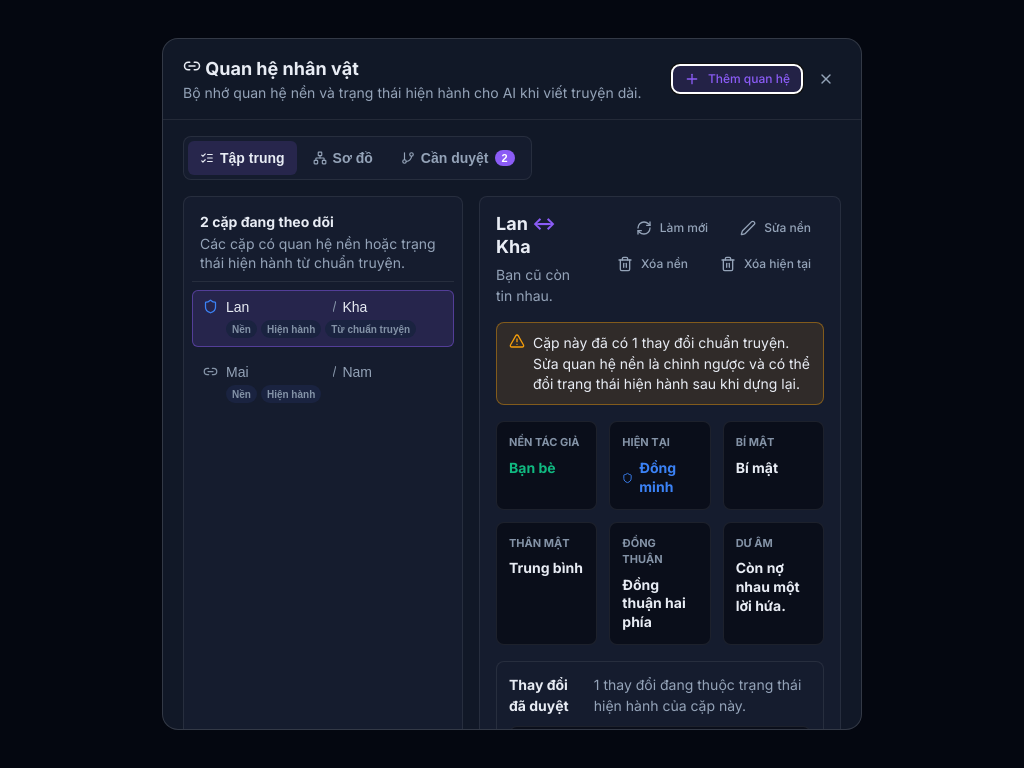
Test: phase10 relationship cockpit V1 › groups pending relationship suggestions by chapter and pair
Click the button "Cần duyệt 2" at (458, 158), box [389,141,526,175]
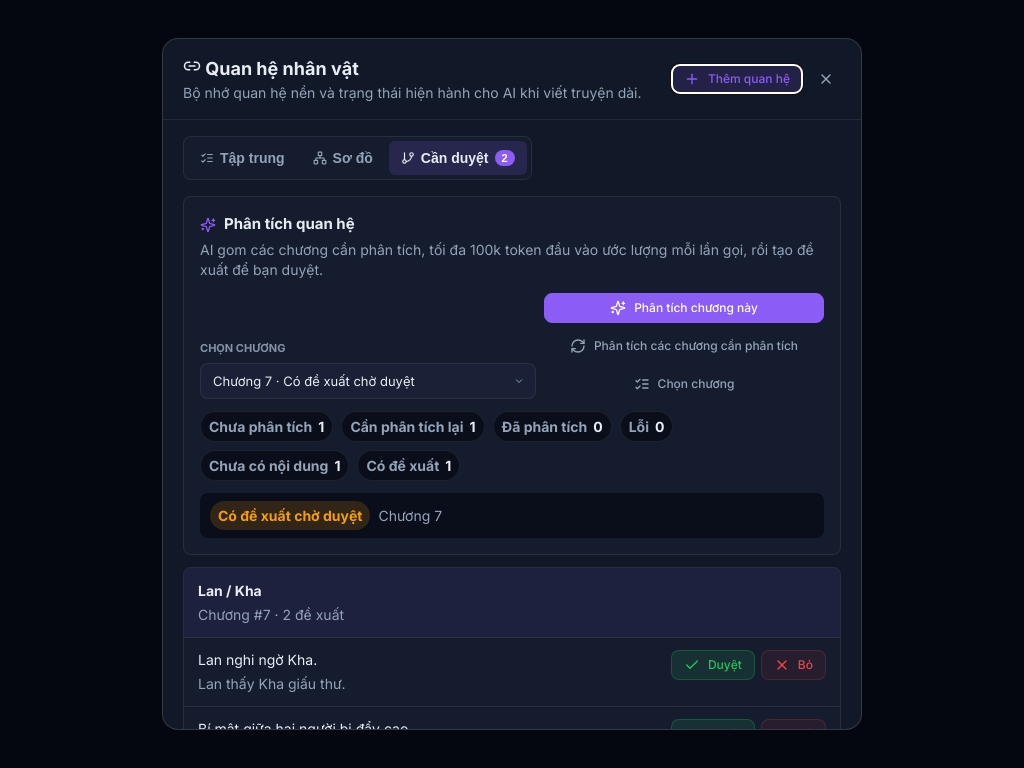
Result: the number of elements with class "rel-suggestion-group" is 1 at [183,566,841,729]
Result: the element with class "rel-suggestion-copy" that starts with "Lan nghi ngờ Kha." is shown at [198,650,346,692]
